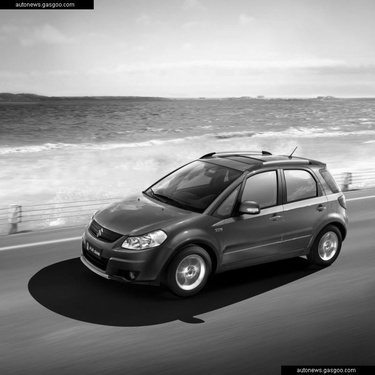car: (74, 134, 355, 305)
